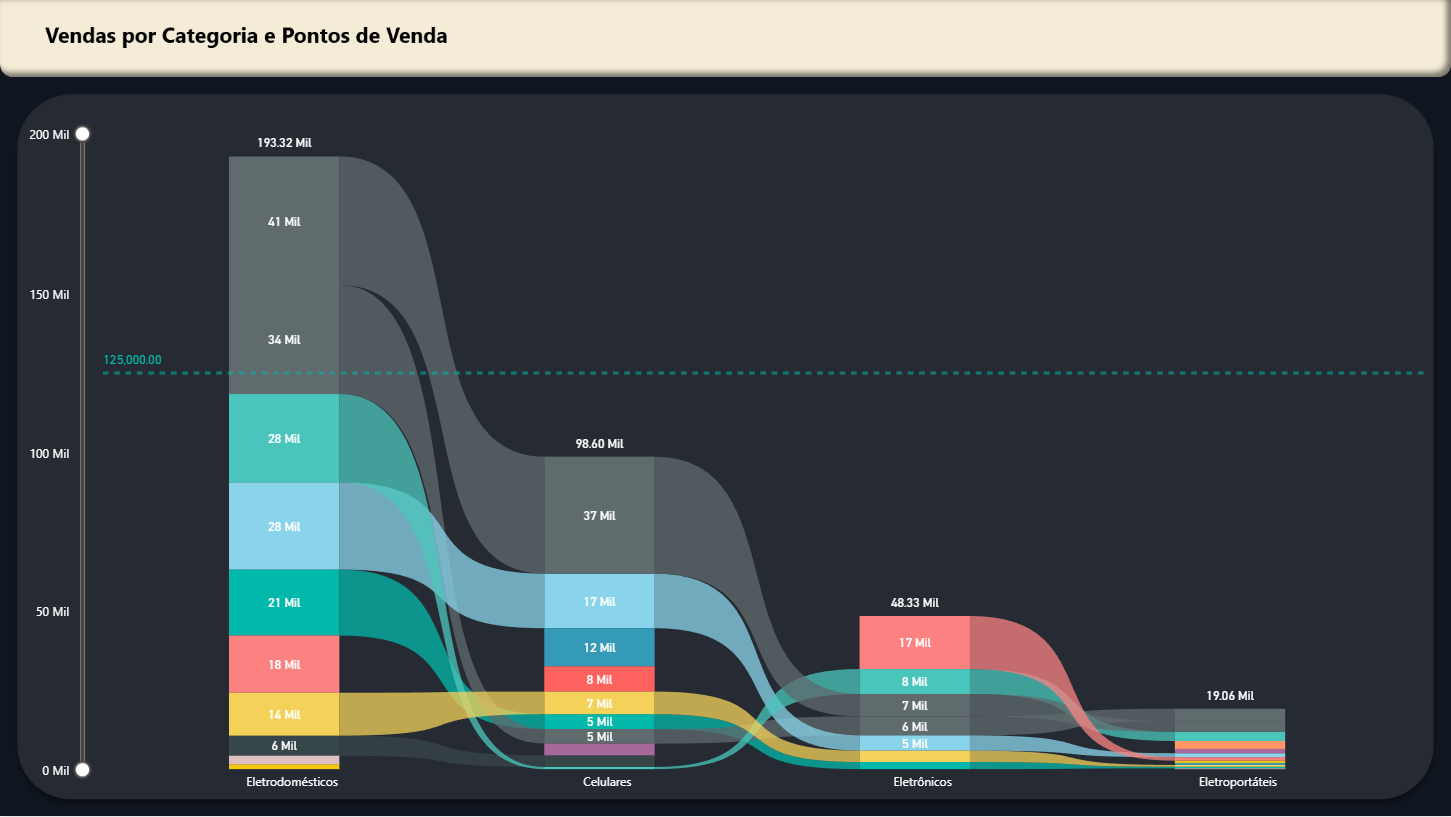

The dashboard page shown, as its layout file describes it:
{"tool":"powerbi","page":{"name":"Faixas de Venda por Categoria e Pontos de Venda","canvas":[1280,720],"ordinal":3},"visuals":[{"type":"ribbonChart","fields":{"Category":["Vendas.Categoria"],"Series":["Vendas.Loja"],"Y":["Sum(Vendas.ValorVenda)"]},"box":[16.8,104.1,1247.4,603.4],"z":0}]}

Visuals, with their boxes in screenshot pixels (x1, y1, x2, y2), scaled from the page's 1280x720 canvas onto the 1451x817 screenshot:
ribbonChart - Vendas.Categoria x Vendas.Loja: l=19, t=118, r=1433, b=803
